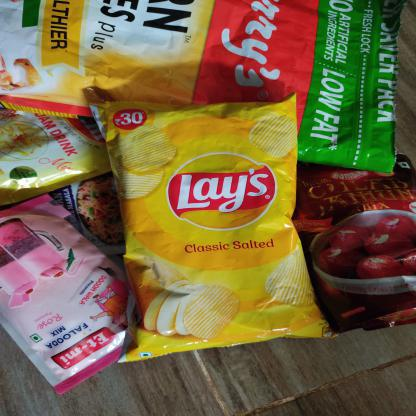classicsalted: (86, 91, 340, 364)
